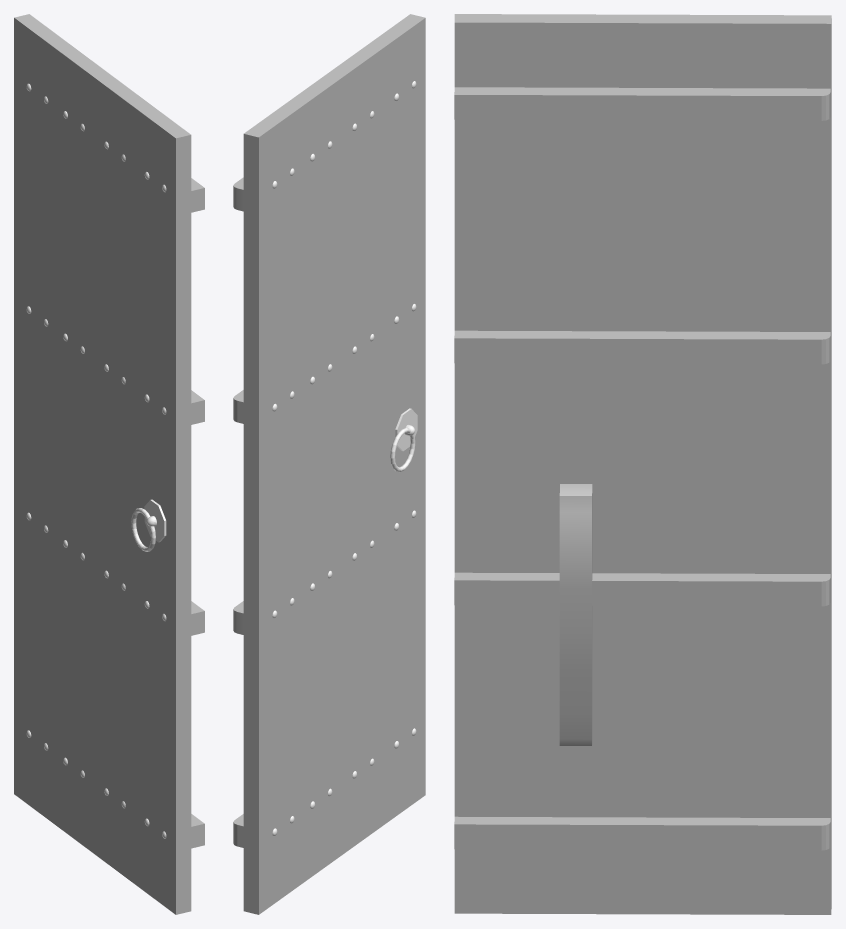
File: SM_D_Gate_3.fbx
3 renders of one model, left to right at view 1: azimuth 30°, elevation 25°; view 2: azimuth 150°, elevation 25°; view 3: azimuth 270°, elevation 25°, orthographic. The views are drawn at different scales.
Visible parts, largest first — view 1: SM_D_Gate_3_LOD0; view 2: SM_D_Gate_3_LOD0; view 3: SM_D_Gate_3_LOD0.
Part boxes in pixels (x1=…): SM_D_Gate_3_LOD0: x1=14, y1=14, x2=204, y2=914; SM_D_Gate_3_LOD0: x1=233, y1=14, x2=425, y2=914; SM_D_Gate_3_LOD0: x1=454, y1=14, x2=831, y2=914.
Size of the model in its own units: 22.7 by 119 by 311.
